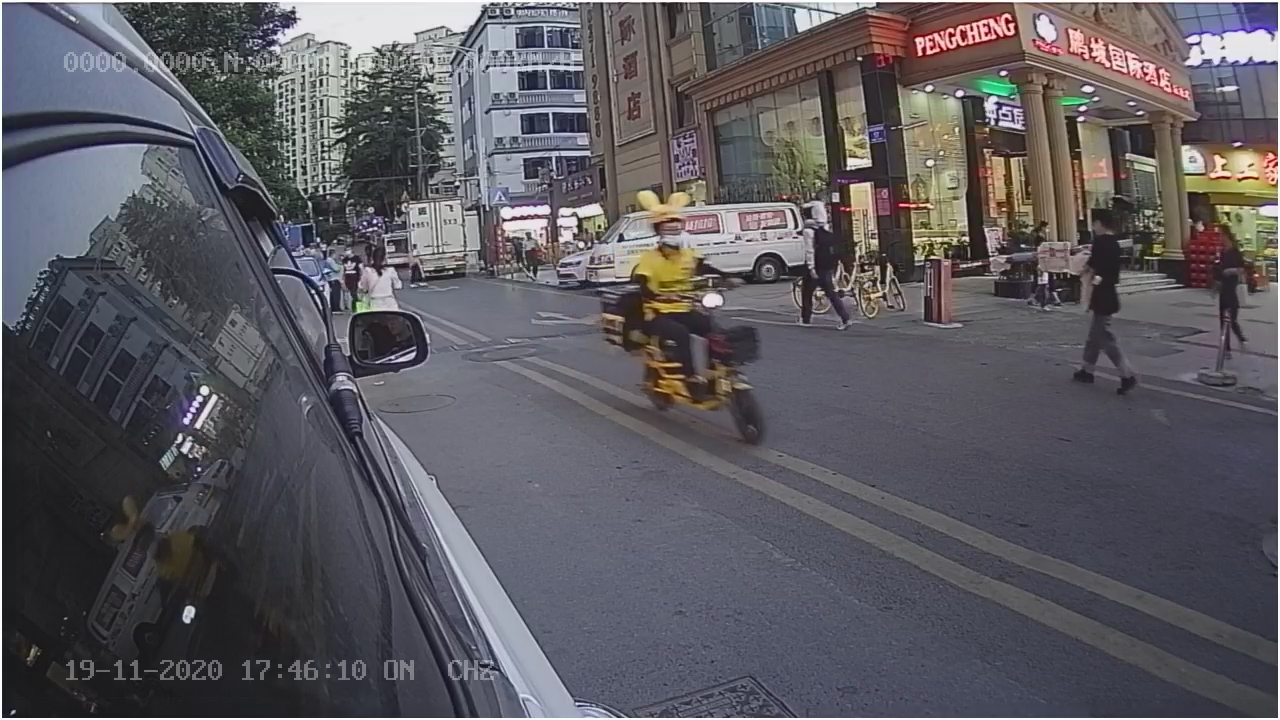person: (1070, 202, 1148, 401)
